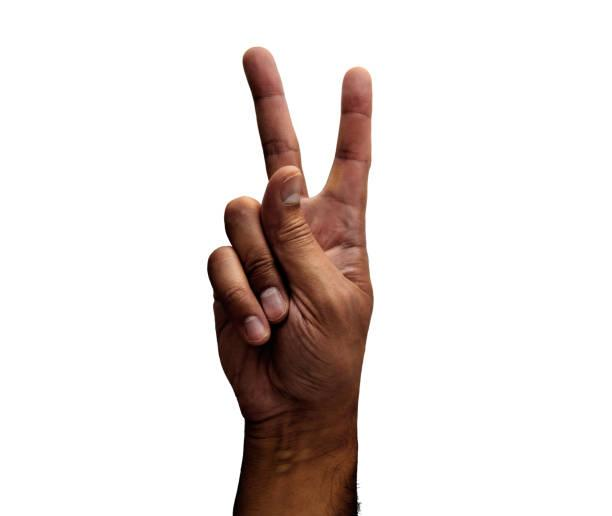peace_sign: (194, 32, 395, 418)
